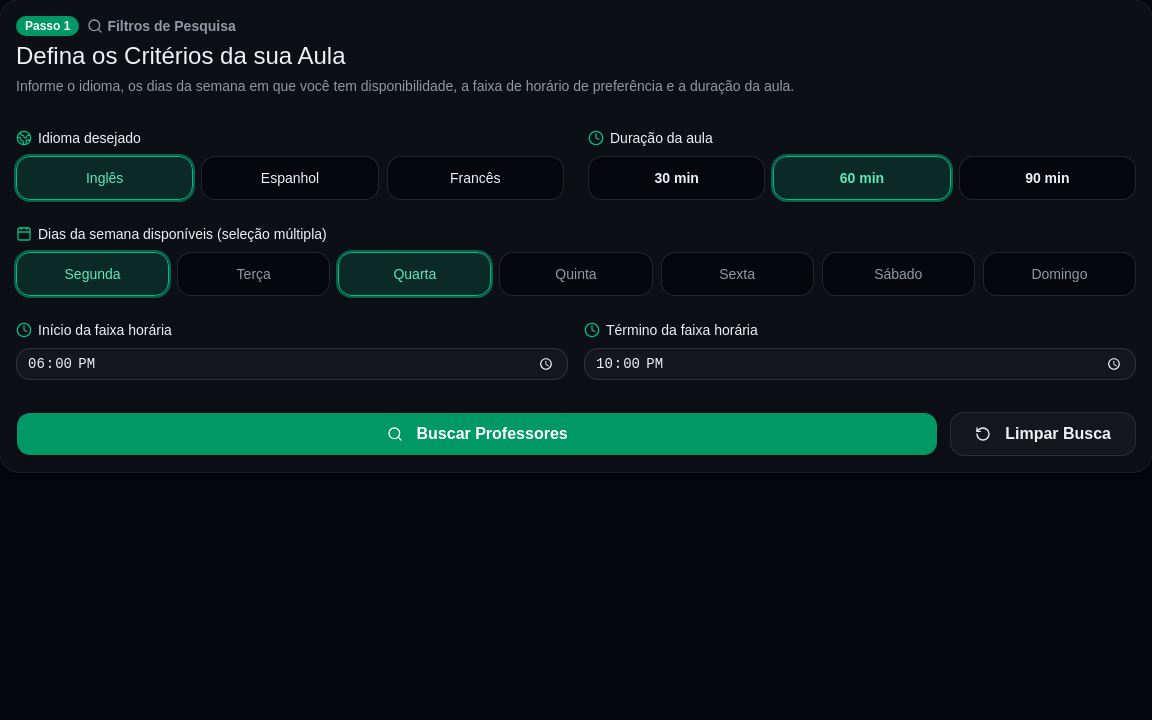
Test: BuscaProfessoresForm - Validação › deve bloquear a submissão quando nenhum dia da semana estiver selecionado
# Desmarca os dias padrão "Segunda" e "Quarta"
Click the button "Segunda": [93, 274] box [16,252,169,296]
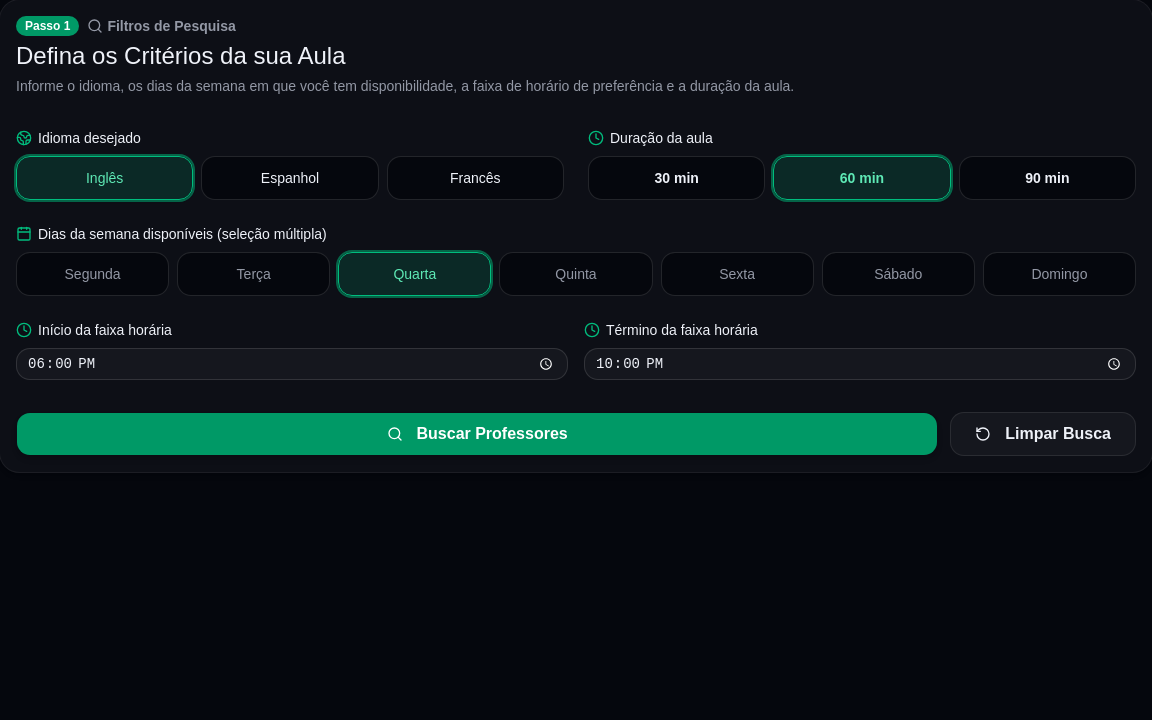
Click the button "Quarta": [415, 274] box [338,252,491,296]
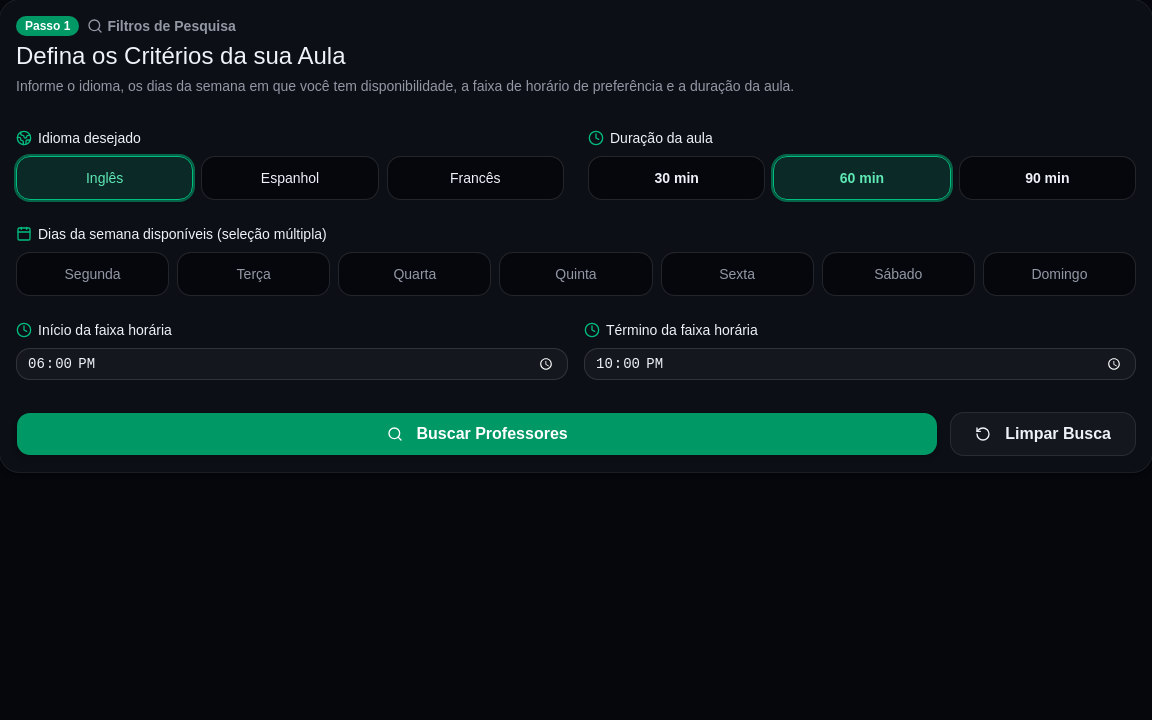
Click the button "Buscar Professores": [477, 434] box [16,412,938,456]
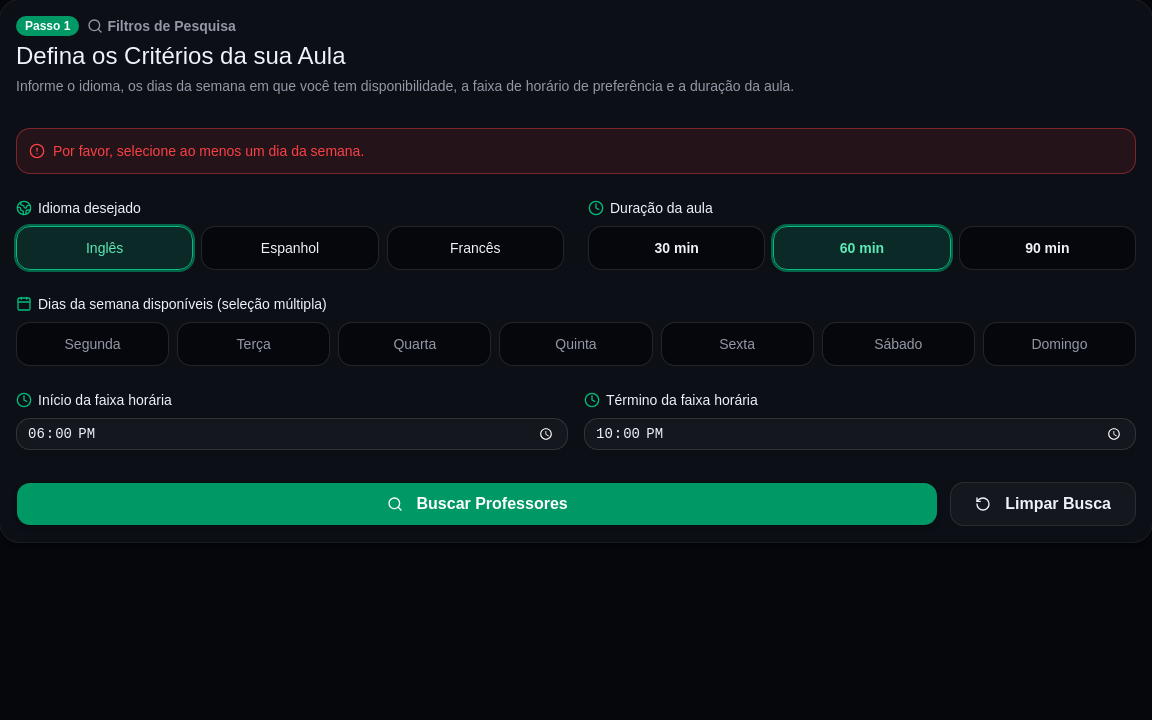
Expected: the message shows "selecione ao menos um dia da semana", [53,143,364,159]
